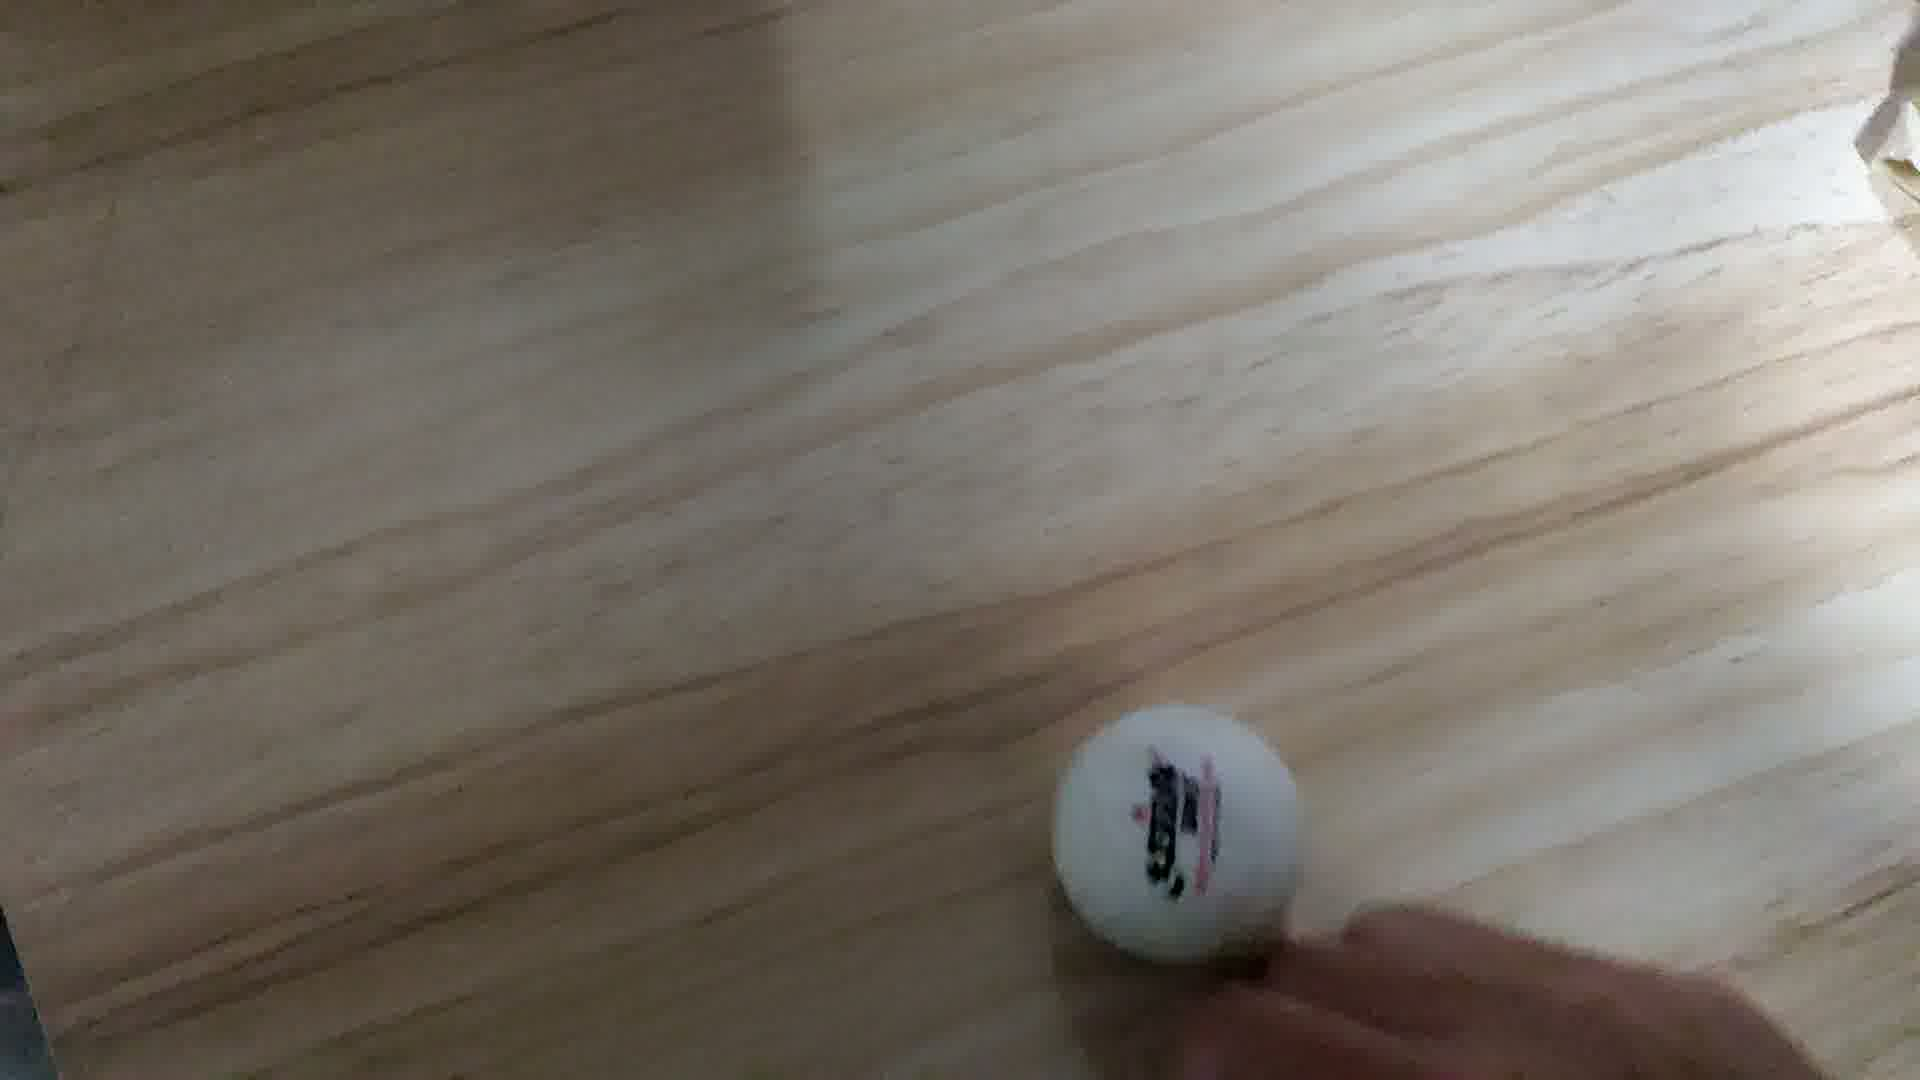Ball: (1051, 700, 1302, 967)
